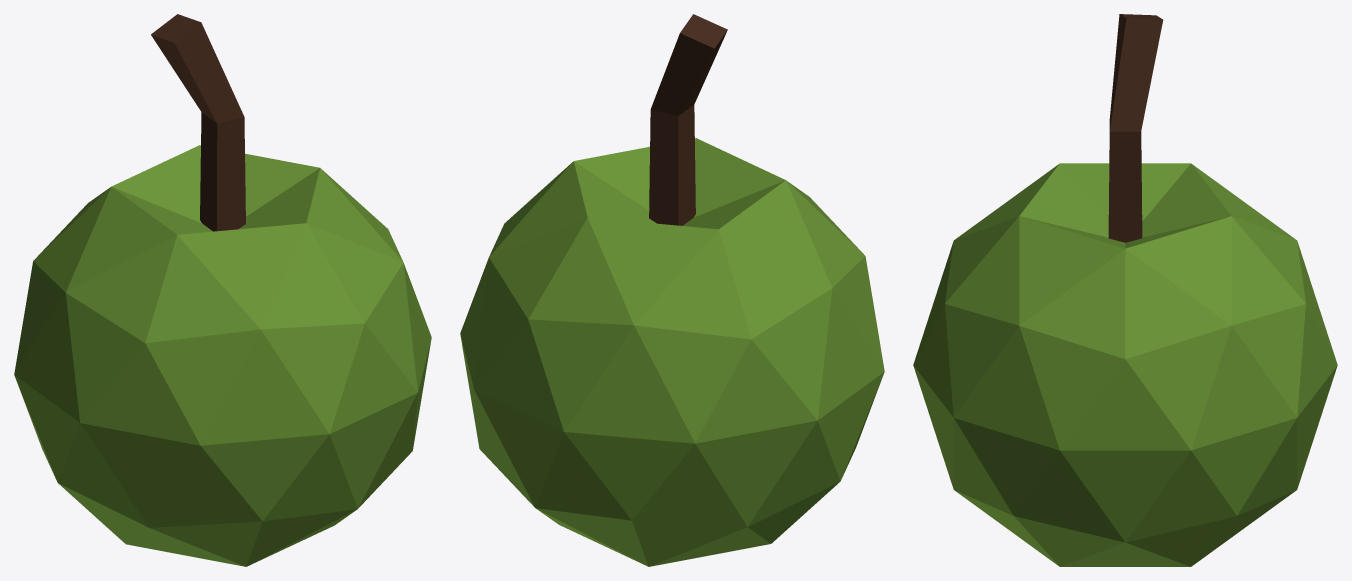
File: Apple.fbx
3 renders of one model, left to right at view 1: azimuth 30°, elevation 25°; view 2: azimuth 150°, elevation 25°; view 3: azimuth 270°, elevation 25°, orthographic. The views are drawn at different scales.
Parts seen in each view (by area): view 1: Apple; view 2: Apple; view 3: Apple.
Boxes of the visible parts, x1=… form: Apple: x1=14, y1=14, x2=431, y2=566; Apple: x1=460, y1=14, x2=884, y2=566; Apple: x1=913, y1=14, x2=1337, y2=566.
Bounding box in the file's own units: 47.55 × 68.74 × 50.
